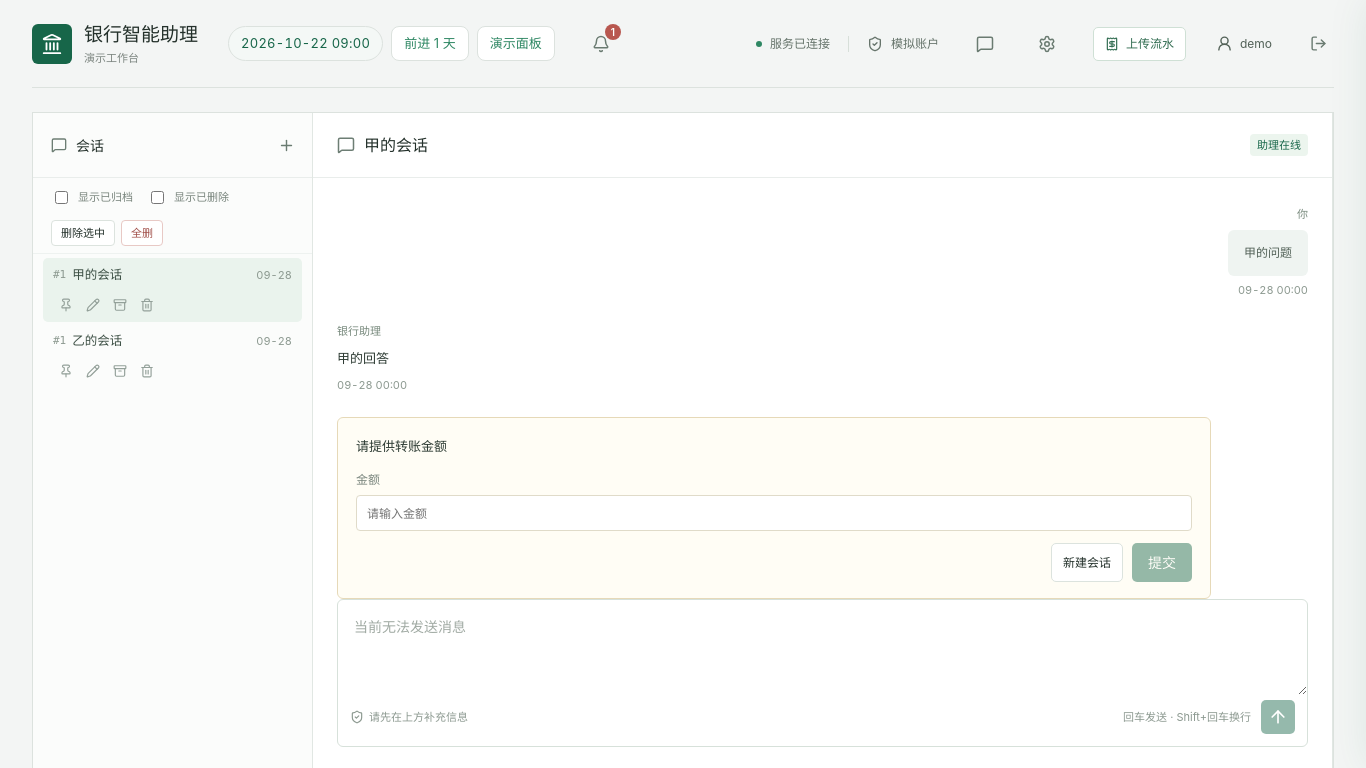
Test: subscription reminders in the header › prefills the composer once with the cancellation sentence
Expected: the text with test id "reminder-count" reads "1", [611, 26, 615, 38]
Click the button with test id "reminder-bell": (601, 44) [585, 28, 617, 60]
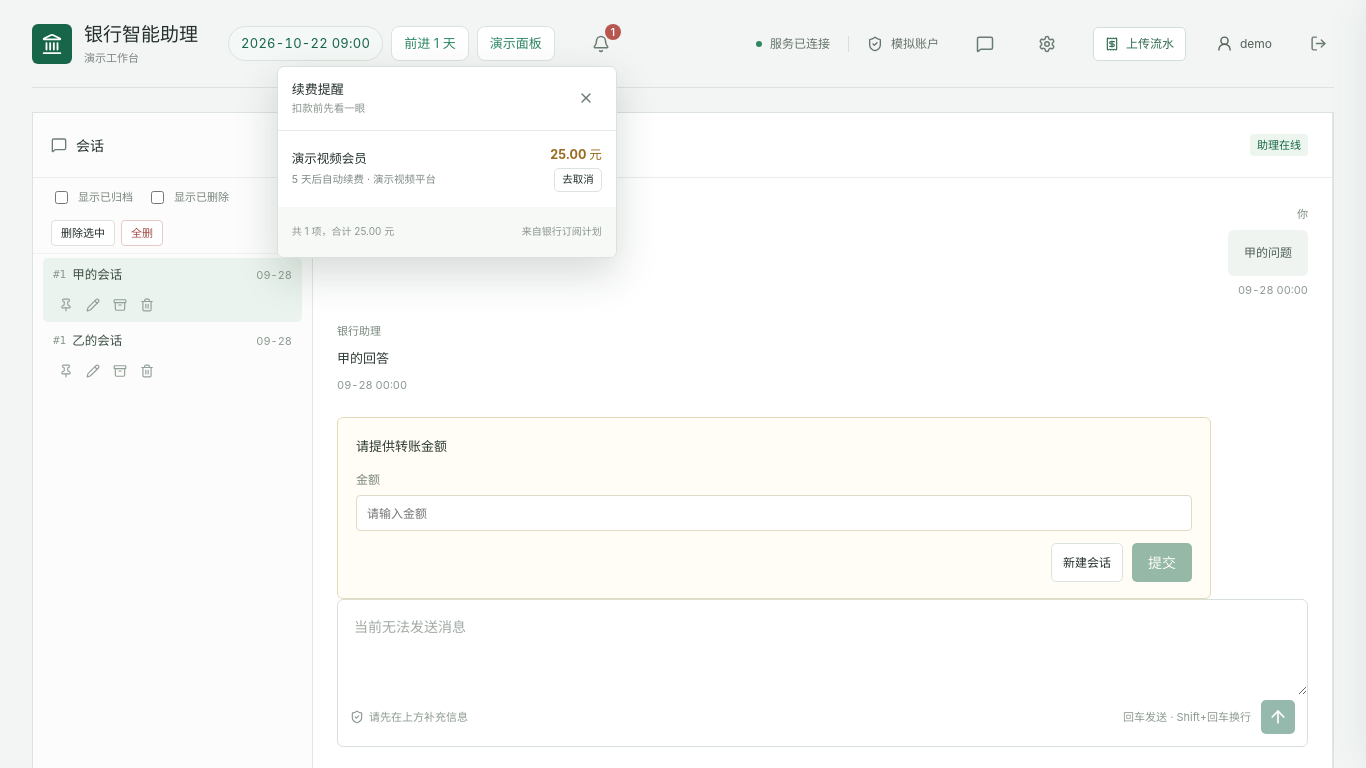
Click the button with test id "reminder-cancel": (578, 180) [554, 168, 602, 192]
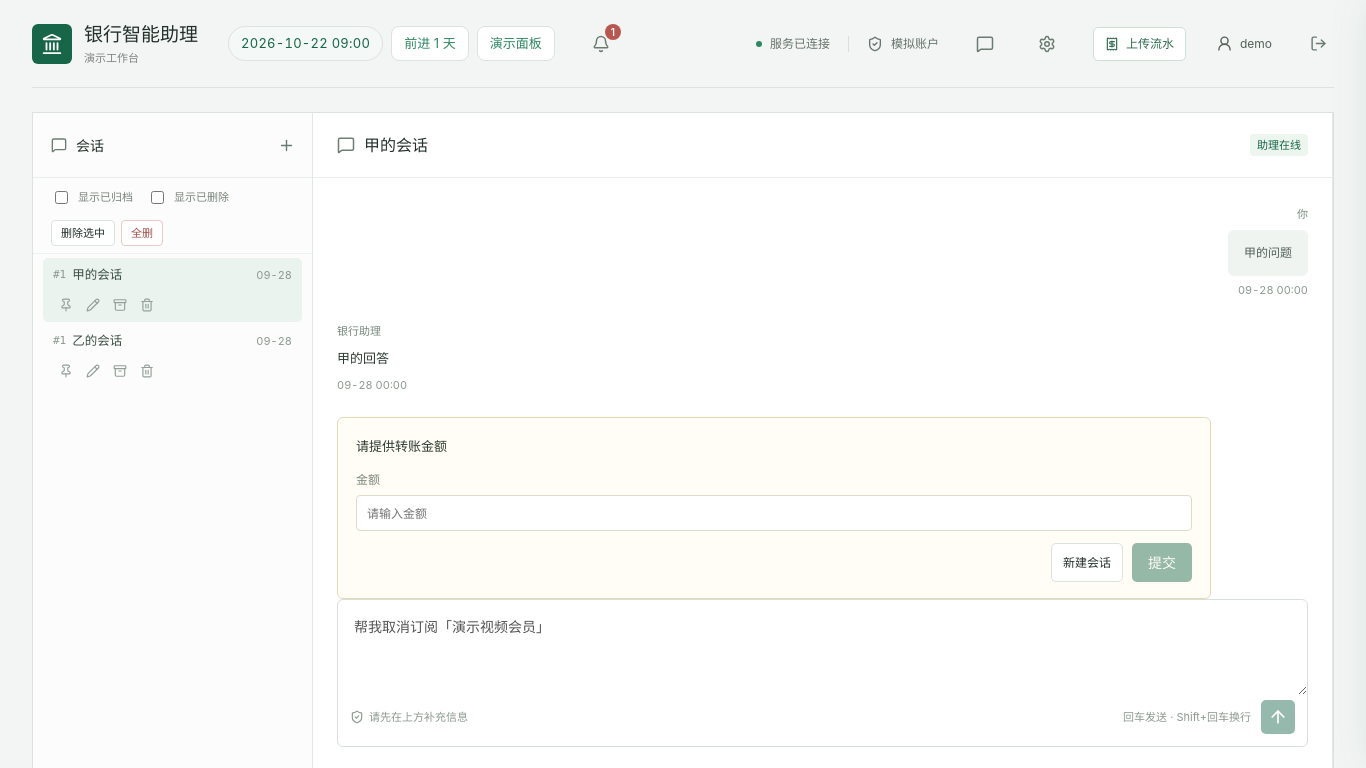
Expected: the text box named "银行业务需求" holds "帮我取消订阅「演示视频会员」", [338, 600, 1307, 695]
